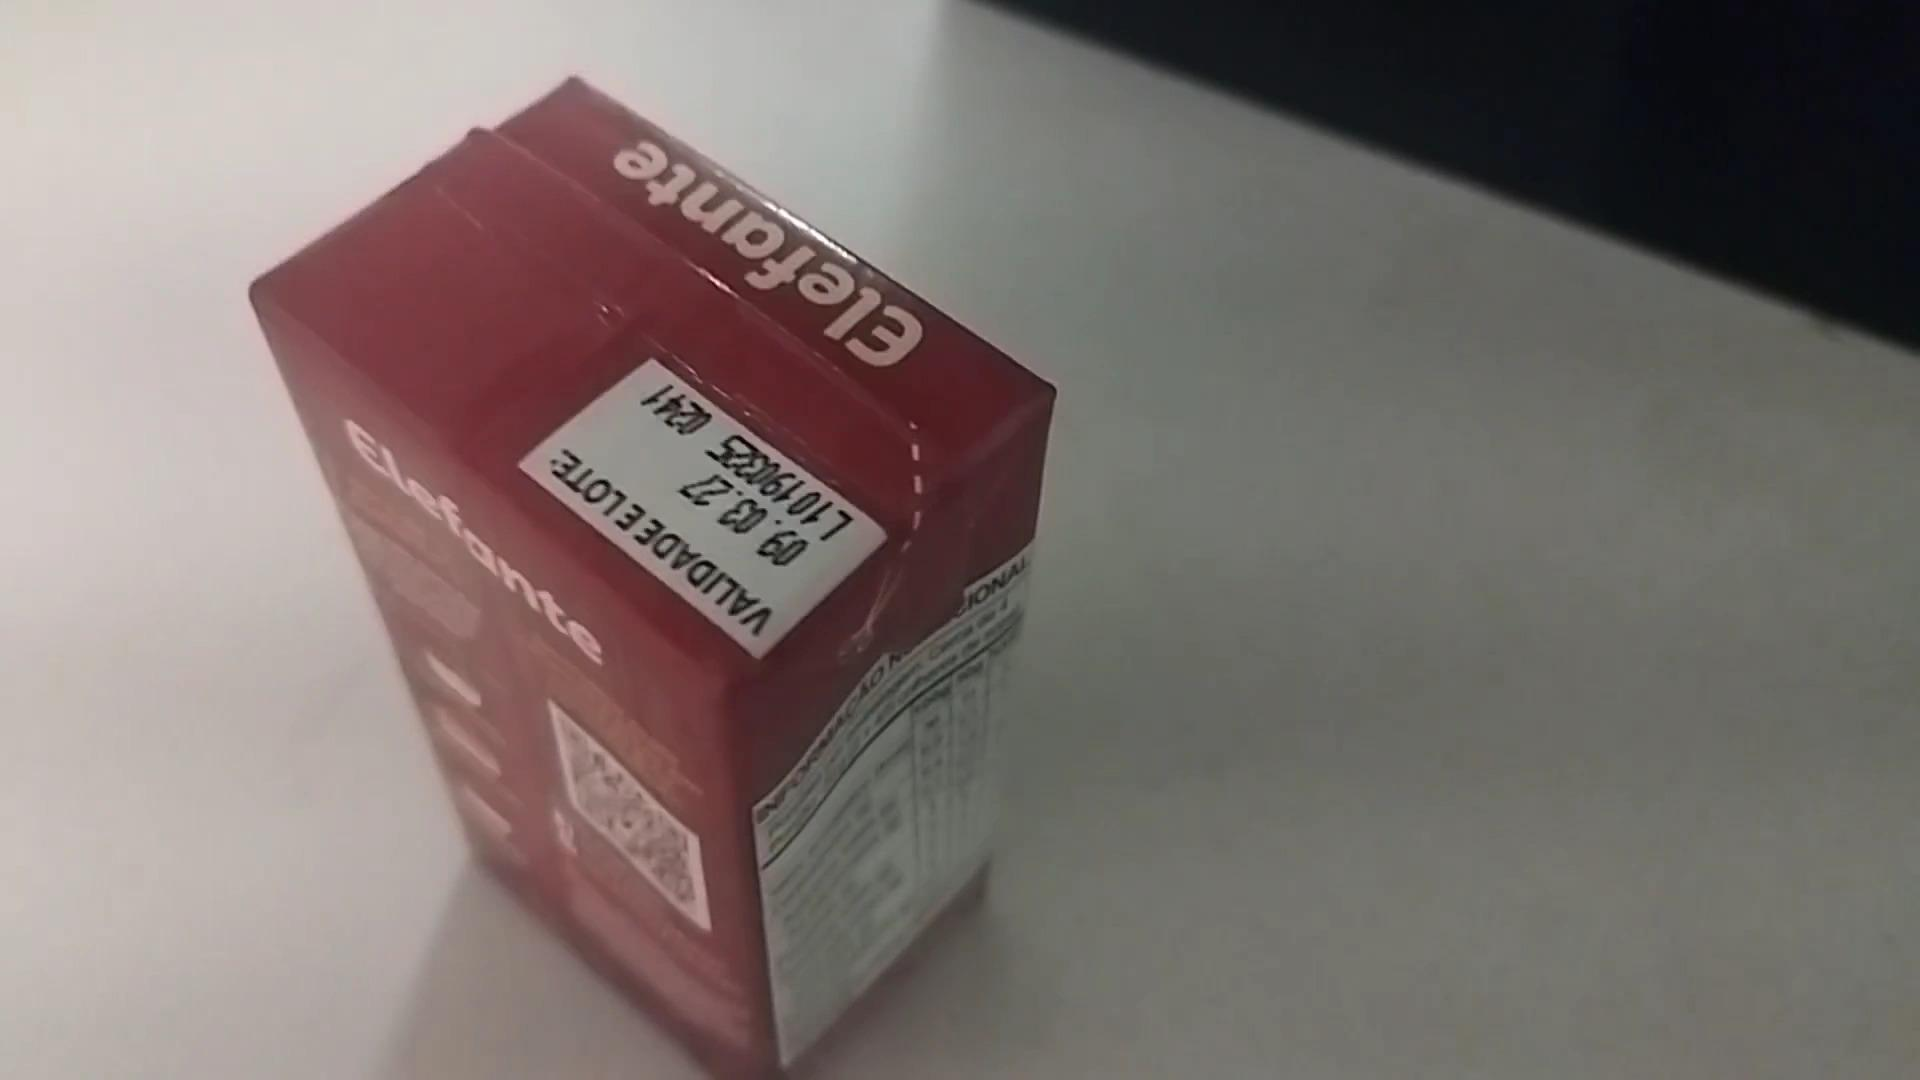tomate: (225, 66, 1044, 1065)
